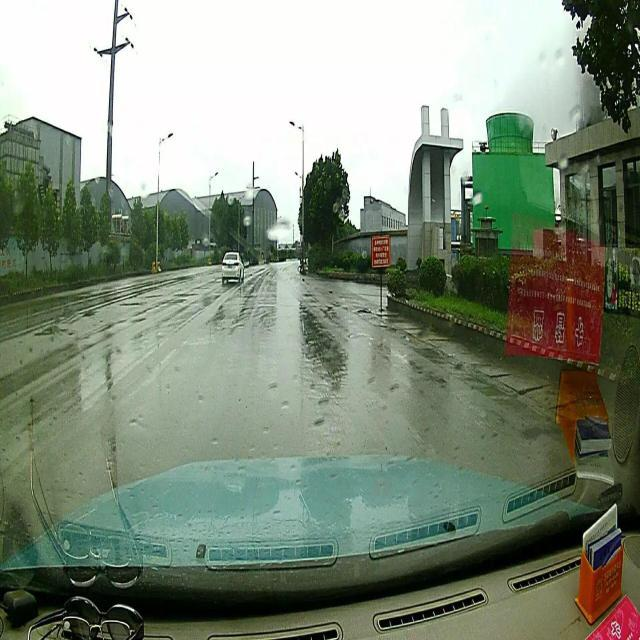car: (220, 249, 244, 285)
